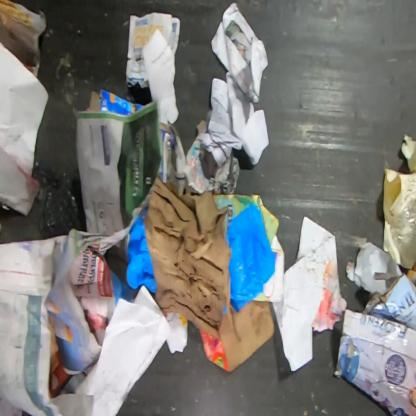cardboard: (142, 176, 230, 338), (335, 308, 415, 415), (198, 298, 275, 372), (157, 122, 188, 196), (88, 87, 144, 116)
soft_plastic: (224, 202, 276, 314), (345, 241, 403, 296), (391, 198, 415, 270)
